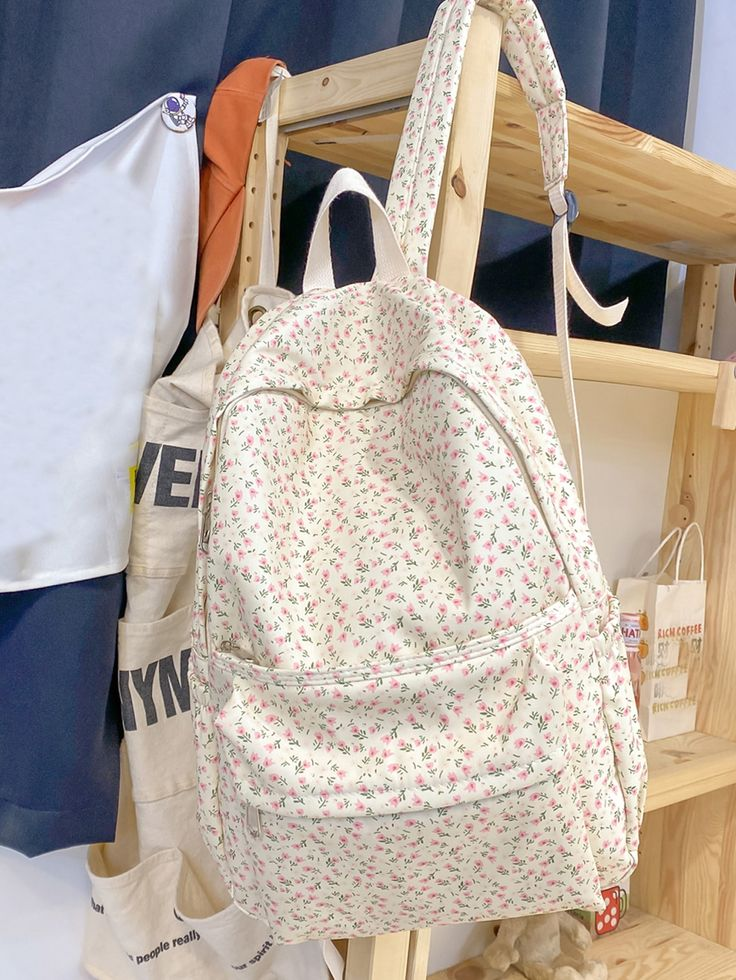nylon: (1, 1, 646, 980)
